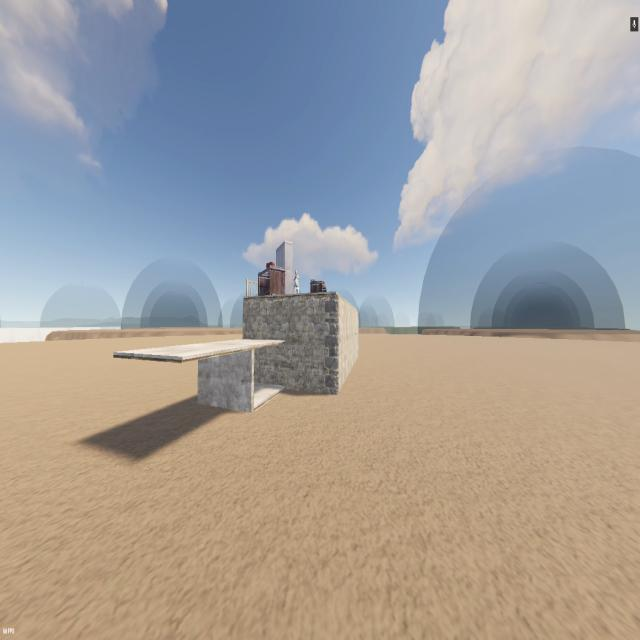Player: (294, 268, 300, 296)
